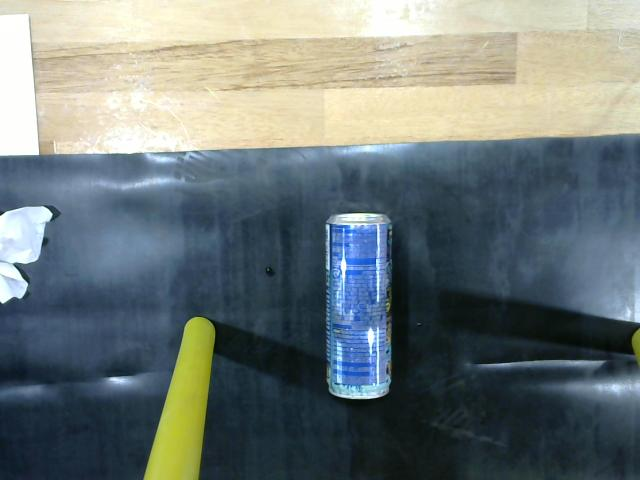can: (319, 208, 403, 407)
